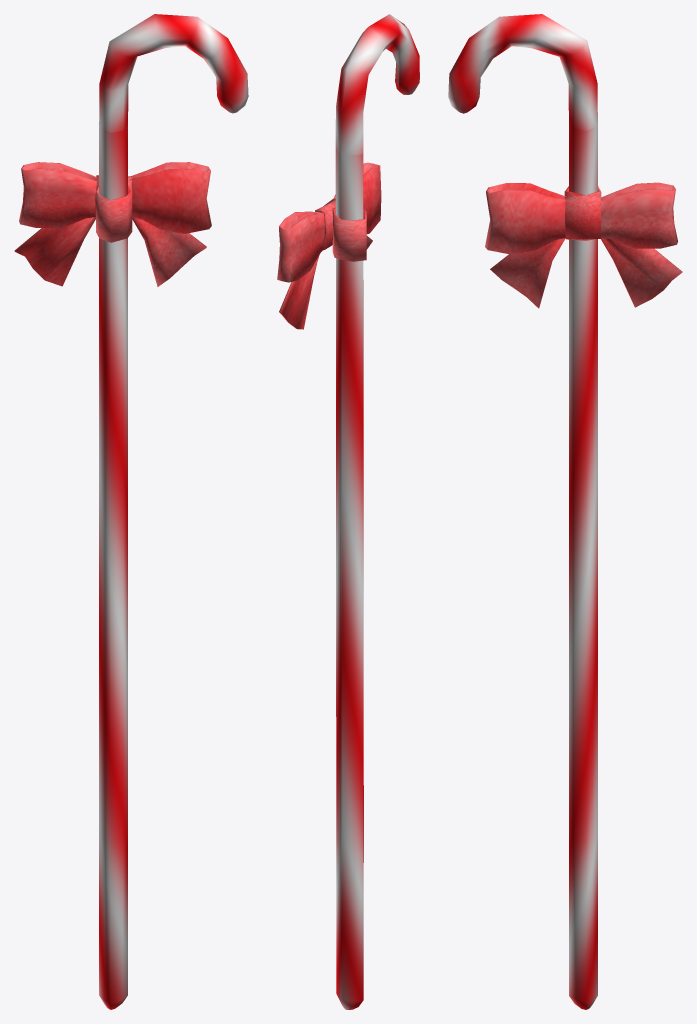
The model's file is WandObject_3d_006.fbx.
3 views of the same model, side by side, from view 1: azimuth 90°, elevation 25°; view 2: azimuth 150°, elevation 25°; view 3: azimuth 270°, elevation 25° (orthographic). The views are drawn at different scales.
Parts seen in each view (by area): view 1: Object001.002; view 2: Object001.002; view 3: Object001.002.
Boxes of the visible parts, bbox=[...] form: Object001.002: bbox=[14, 14, 248, 1009]; Object001.002: bbox=[277, 14, 419, 1009]; Object001.002: bbox=[448, 14, 682, 1009].
Bounding box in the file's own units: 0.3063 × 5.52 × 1.18.
